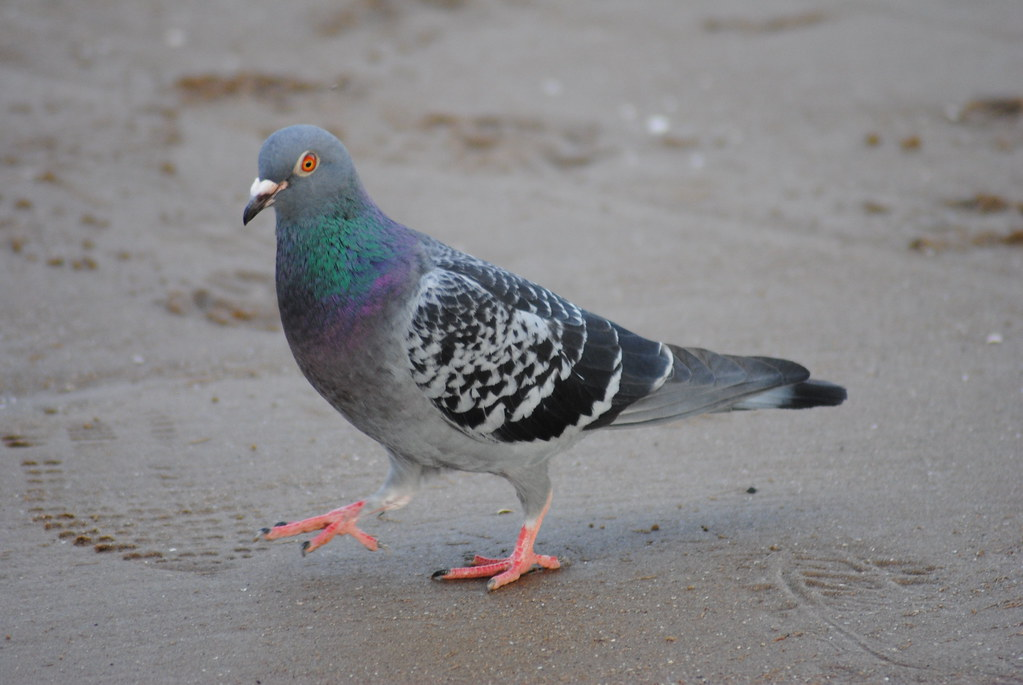pigeon: (233, 118, 857, 601)
